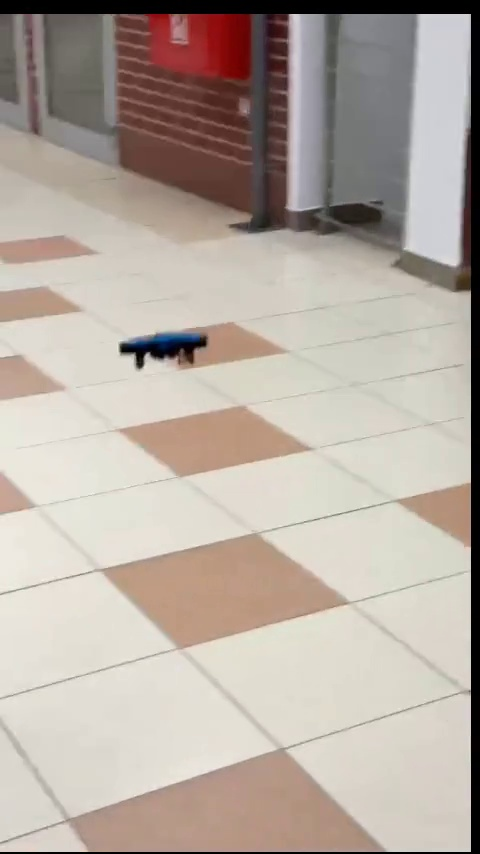drone: (119, 330, 206, 372)
